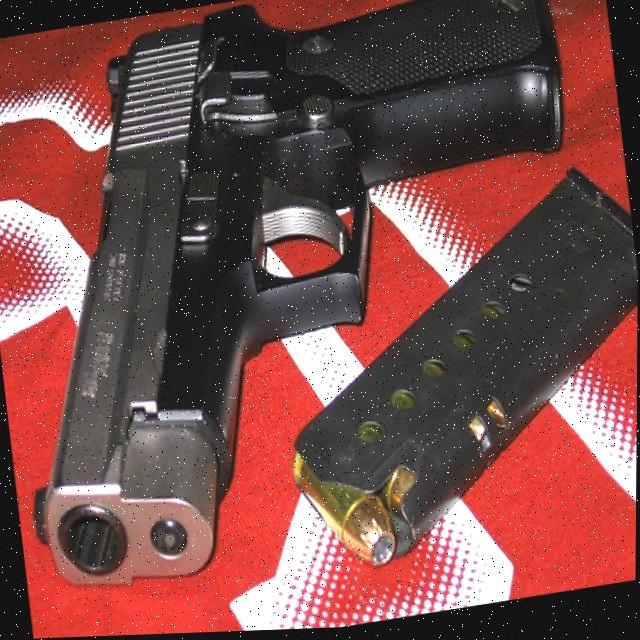pistol: (0, 0, 615, 600)
